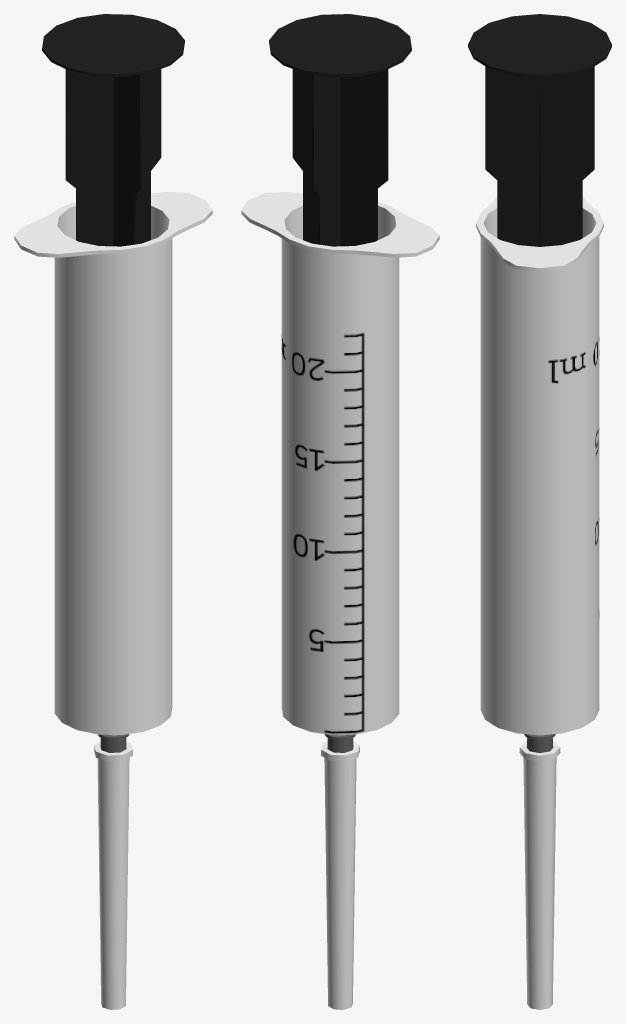
The model's file is uploads_files_3105054_syringe.fbx.
3 renders of one model, left to right at view 1: azimuth 30°, elevation 25°; view 2: azimuth 150°, elevation 25°; view 3: azimuth 270°, elevation 25°, orthographic.
Visible parts, largest first — view 1: Cylinder, Piston, Cap, Needle; view 2: Cylinder, Piston, Cap, Needle; view 3: Cylinder, Piston, Cap, Needle.
Part boxes in pixels (box(x1,y1,x2,y2)): Cylinder: box(14, 192, 212, 735); Piston: box(42, 14, 184, 246); Cap: box(94, 741, 132, 1009); Needle: box(97, 734, 129, 752); Cylinder: box(241, 192, 439, 735); Piston: box(269, 14, 411, 246); Cap: box(321, 741, 359, 1009); Needle: box(324, 734, 356, 752); Cylinder: box(476, 196, 603, 735); Piston: box(468, 14, 611, 246); Cap: box(519, 741, 560, 1009); Needle: box(524, 734, 555, 752).
Bounding box in the file's own units: 108 × 535 × 72.71.
Materials: 1 (1 with a texture image).
